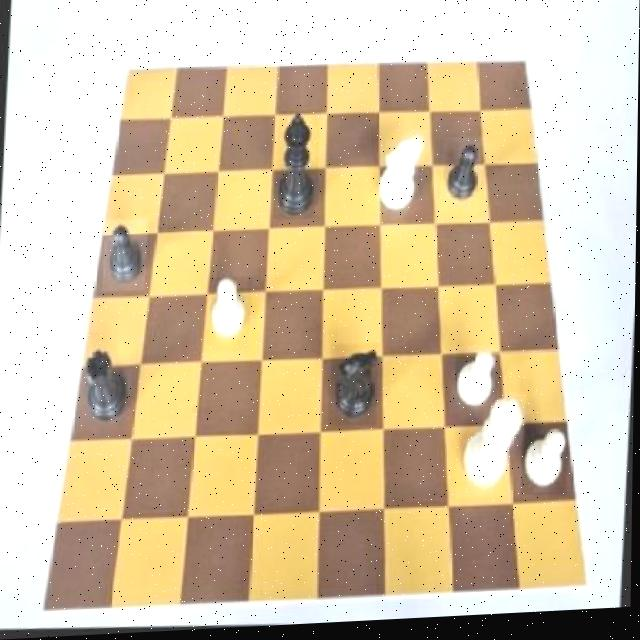black-bishop: (274, 113, 322, 224)
black-king: (328, 346, 380, 431)
black-knight: (440, 140, 484, 220), (103, 218, 148, 293)
black-queen: (78, 341, 135, 435)
white-bishop: (457, 396, 527, 506)
white-king: (374, 133, 430, 219)
white-knight: (520, 426, 572, 504), (206, 276, 254, 353), (450, 350, 503, 419)
